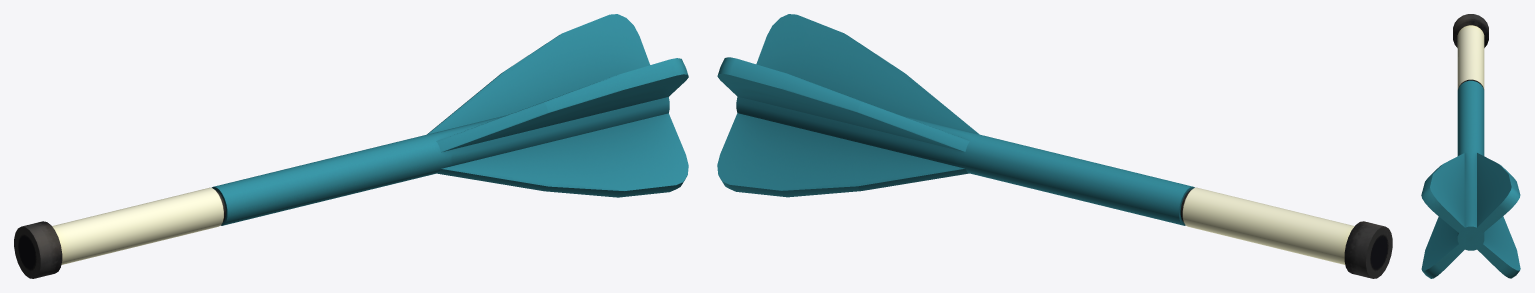
File: CommunityRoomB_DartBlue.fbx
3 views of the same model, side by side, from view 1: azimuth 30°, elevation 25°; view 2: azimuth 150°, elevation 25°; view 3: azimuth 270°, elevation 25° (orthographic). The views are drawn at different scales.
Parts seen in each view (by area): view 1: CommunityRoomB_DartBlue; view 2: CommunityRoomB_DartBlue; view 3: CommunityRoomB_DartBlue.
Boxes of the visible parts, left/top/right/bottom form: CommunityRoomB_DartBlue: left=14, top=14, right=688, bottom=278; CommunityRoomB_DartBlue: left=717, top=14, right=1392, bottom=278; CommunityRoomB_DartBlue: left=1421, top=14, right=1520, bottom=278.
Bounding box in the file's own units: 18 × 3.63 × 3.62.
